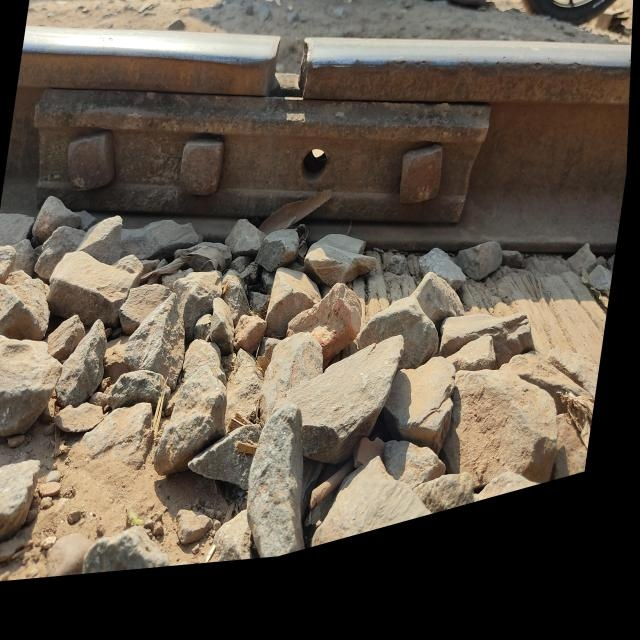obstacle: (292, 133, 340, 202)
